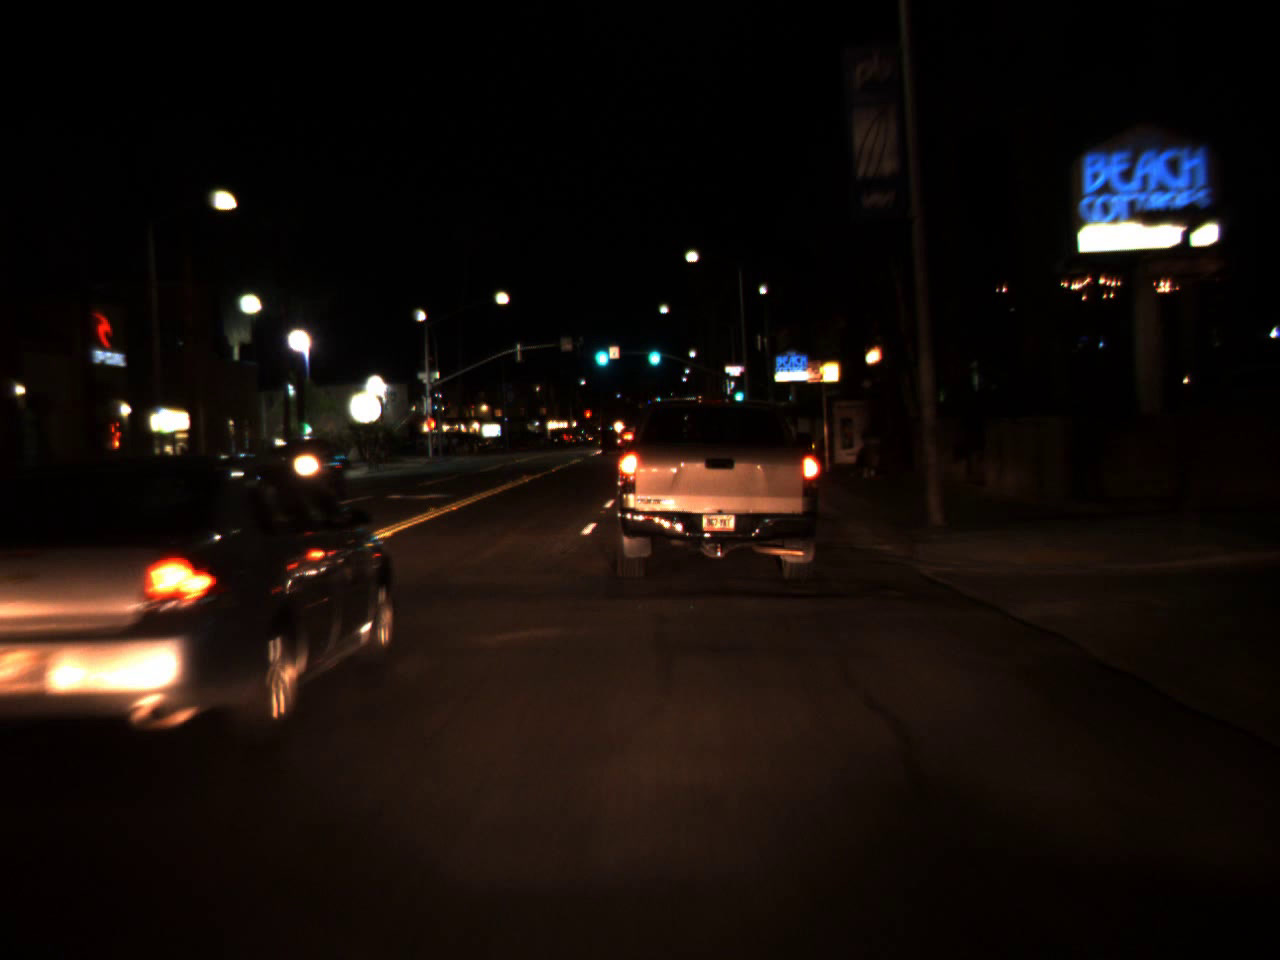go: (590, 332, 611, 371), (645, 334, 663, 370), (732, 380, 744, 404)
